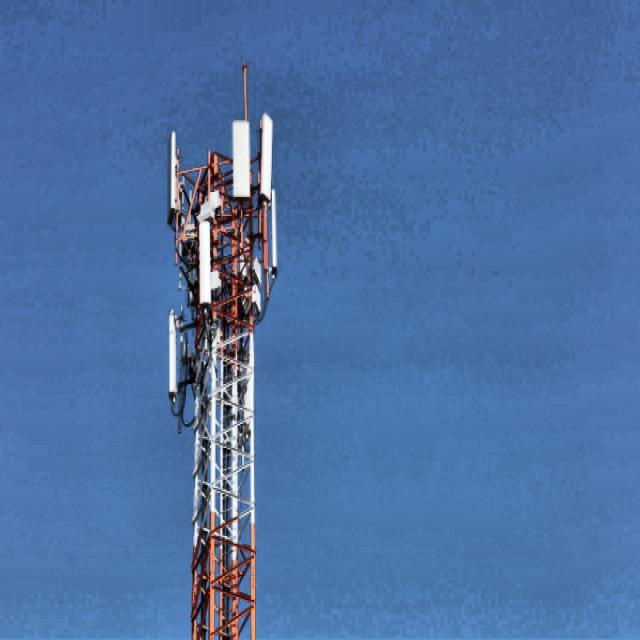antenna: (168, 309, 189, 427), (232, 120, 250, 197), (259, 113, 272, 199), (198, 220, 211, 303), (167, 130, 178, 223), (270, 188, 277, 277)
